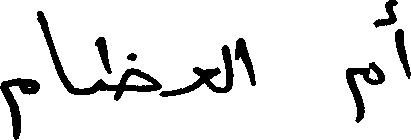X: (0, 6, 38, 139), (99, 32, 161, 105), (347, 14, 384, 127), (40, 6, 70, 97), (396, 0, 410, 83), (239, 33, 256, 90), (196, 62, 217, 97), (222, 40, 232, 97)
